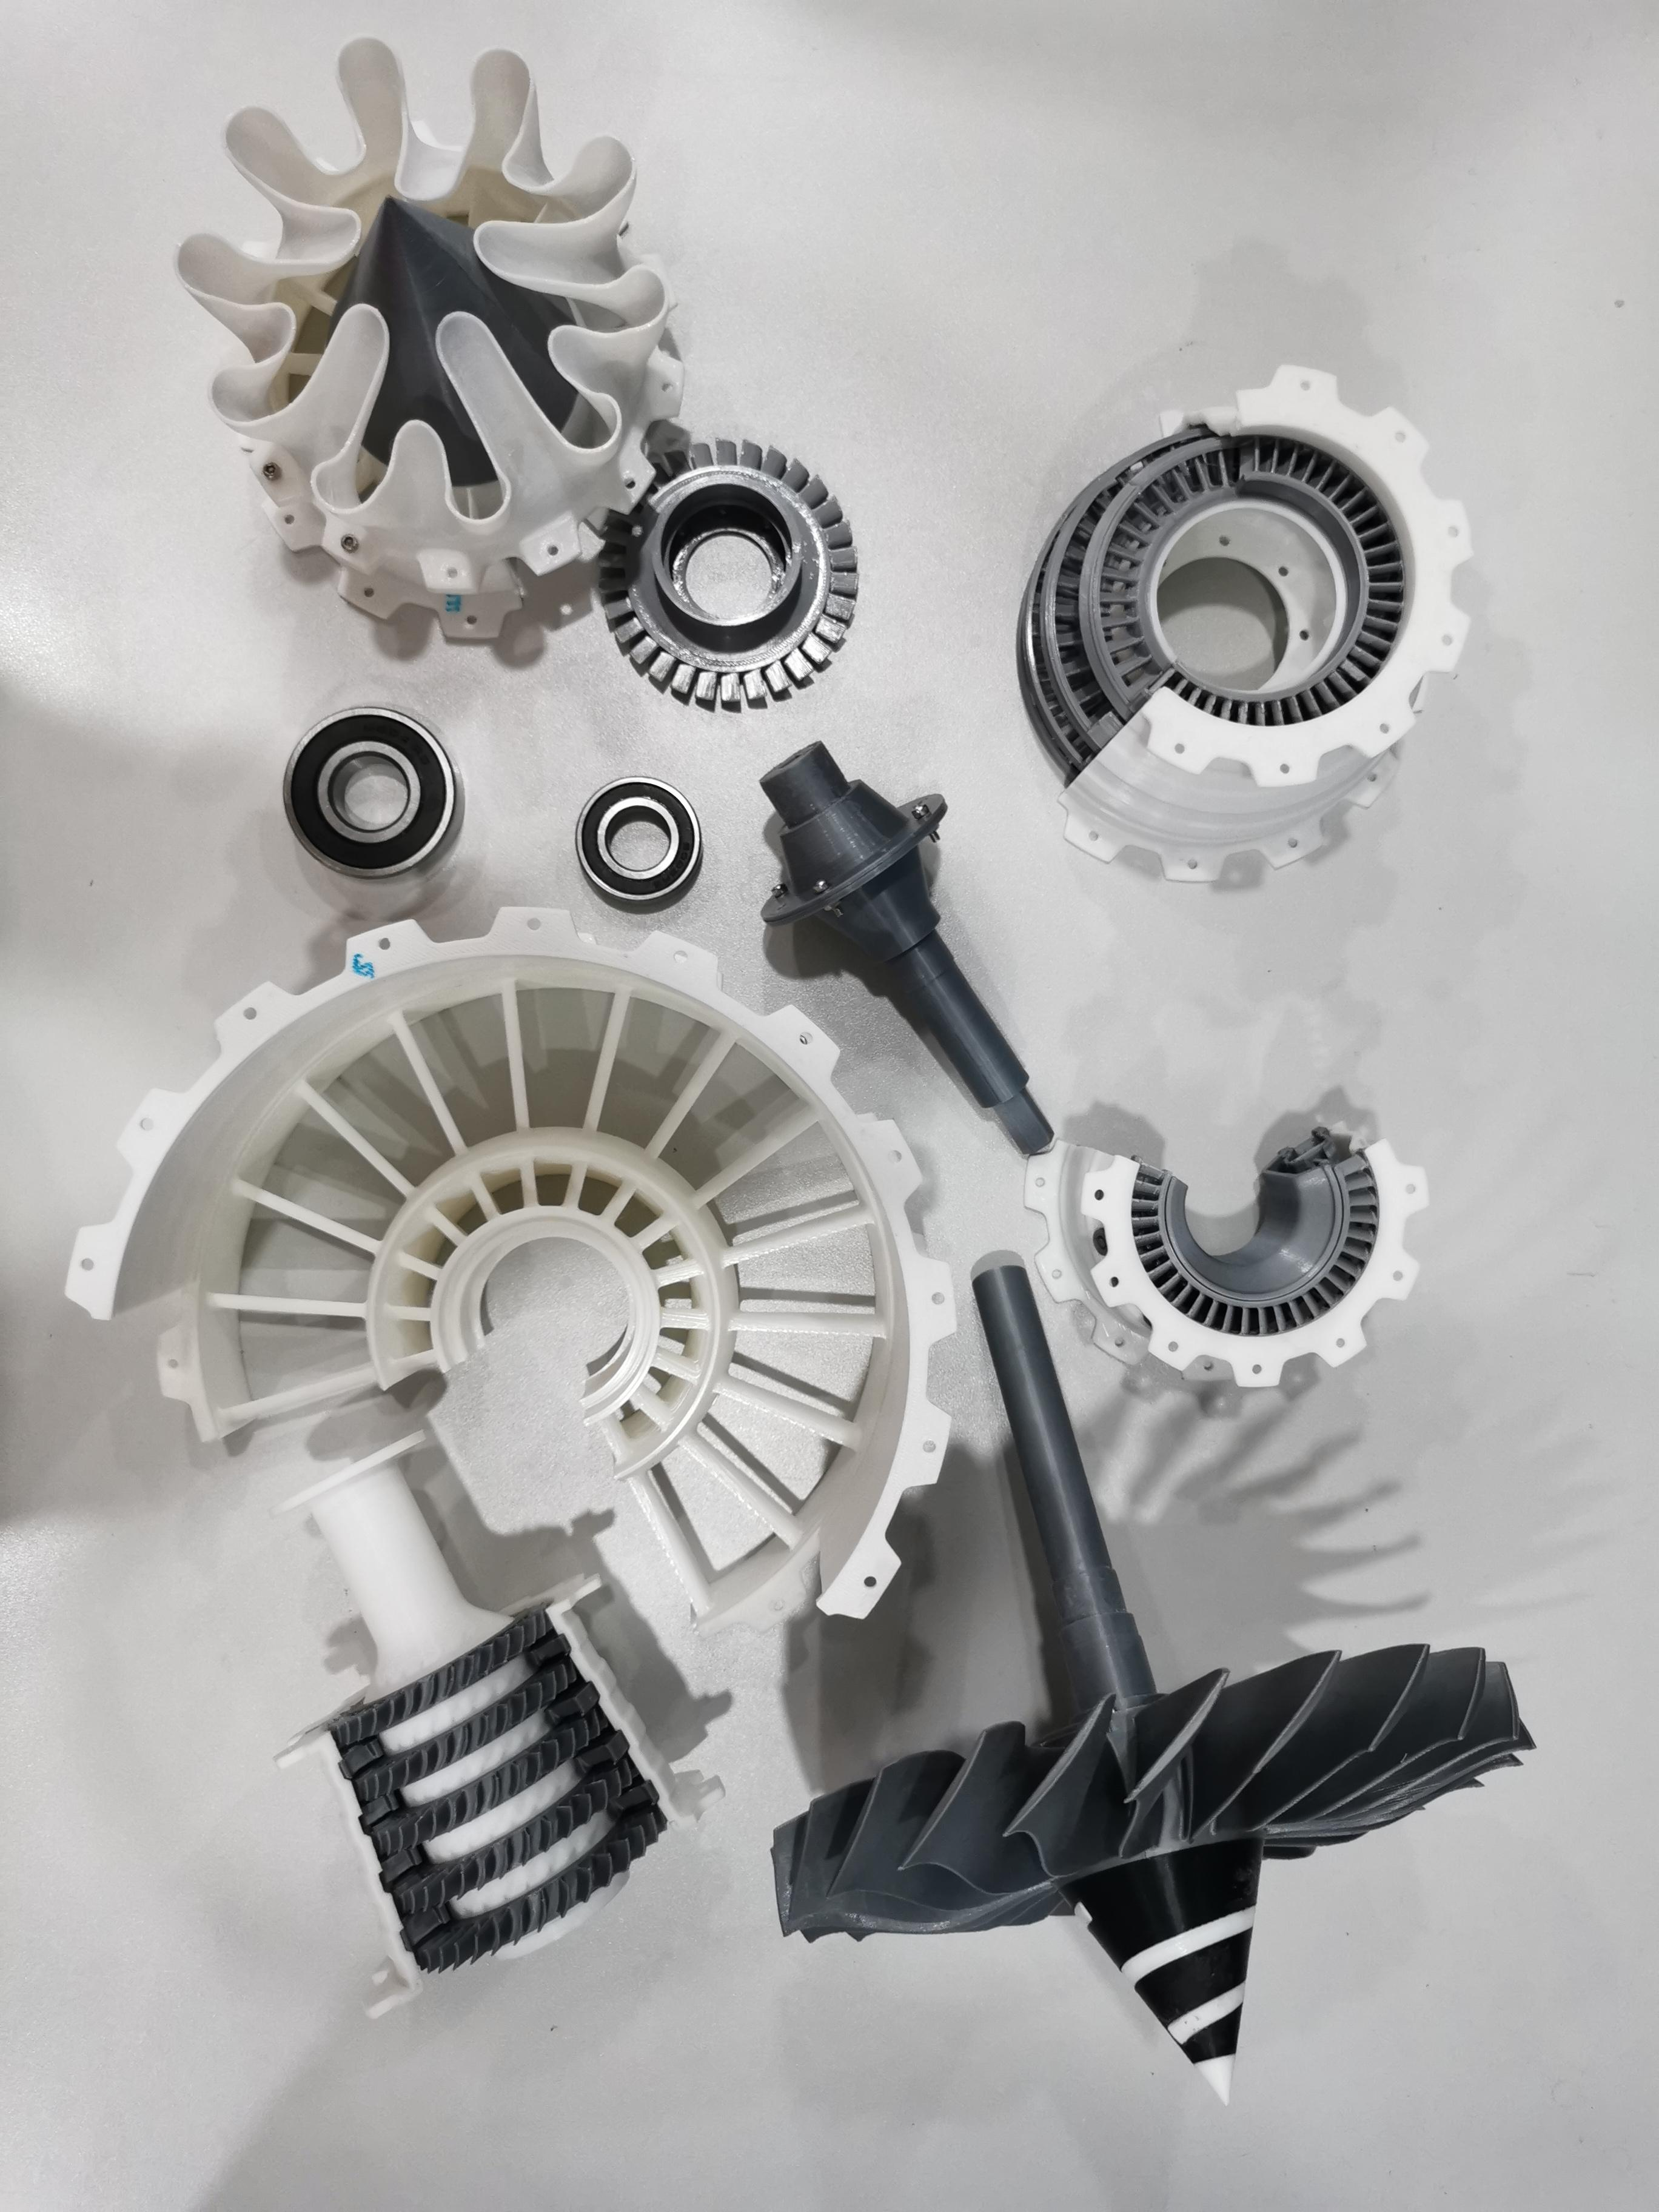Bearing-6003: (565, 765, 709, 916)
Bearing-6204: (263, 691, 481, 902)
Combustion Section: (1011, 1113, 1441, 1395)
Fan Casing and Support: (54, 895, 971, 1644)
Fan and Low Pressure Shaft: (751, 1249, 1544, 2118)
HPT Section: (579, 420, 877, 716)
High Pressure Spool: (253, 1423, 734, 2020)
LPT Section: (1000, 352, 1490, 892)
Low Pressure Spool: (744, 733, 1060, 1169)
Nozzle Section: (171, 26, 695, 660)
